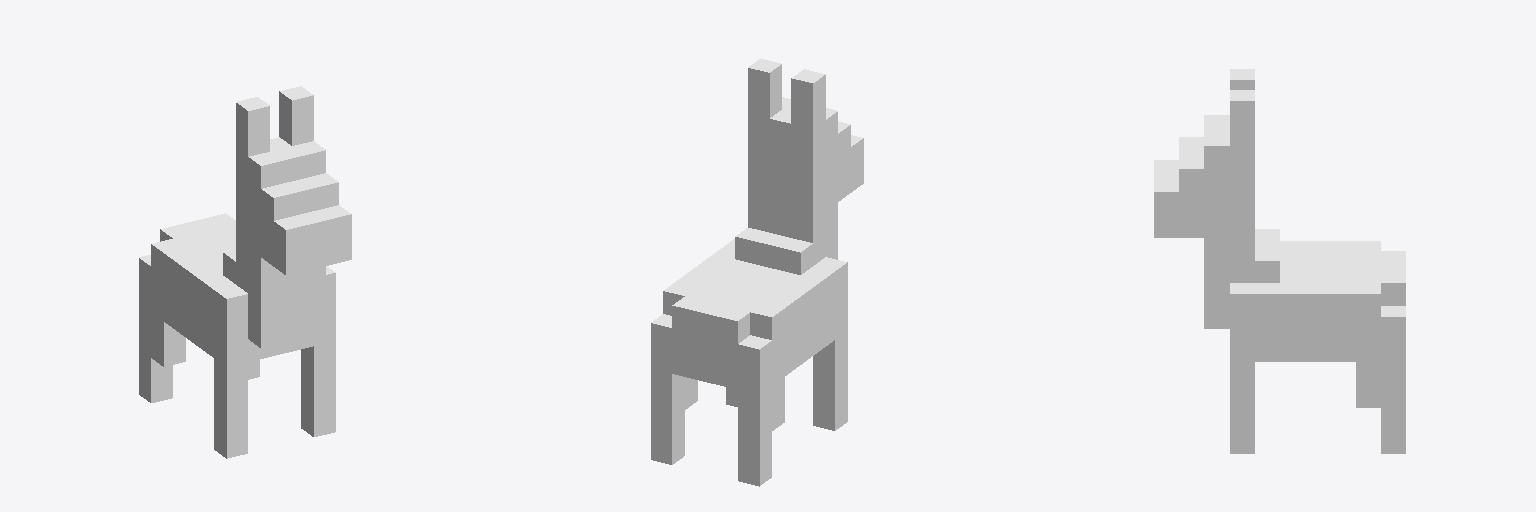
Rendered from lama.obj.
3 views of the same model, side by side, from view 1: azimuth 30°, elevation 25°; view 2: azimuth 150°, elevation 25°; view 3: azimuth 270°, elevation 25° (orthographic).
Visible parts, largest first — view 1: object 1; view 2: object 1; view 3: object 1.
Part boxes in pixels (left/top/right/bottom): object 1: left=139, top=86, right=351, bottom=458; object 1: left=651, top=58, right=863, bottom=486; object 1: left=1154, top=69, right=1405, bottom=453.
Size of the model in its own units: 0.5 by 1.5 by 1.